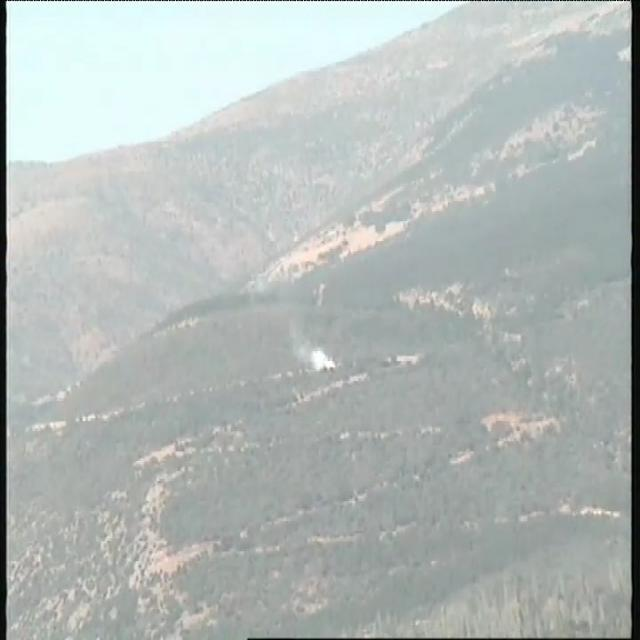smoke: (304, 342, 338, 368)
